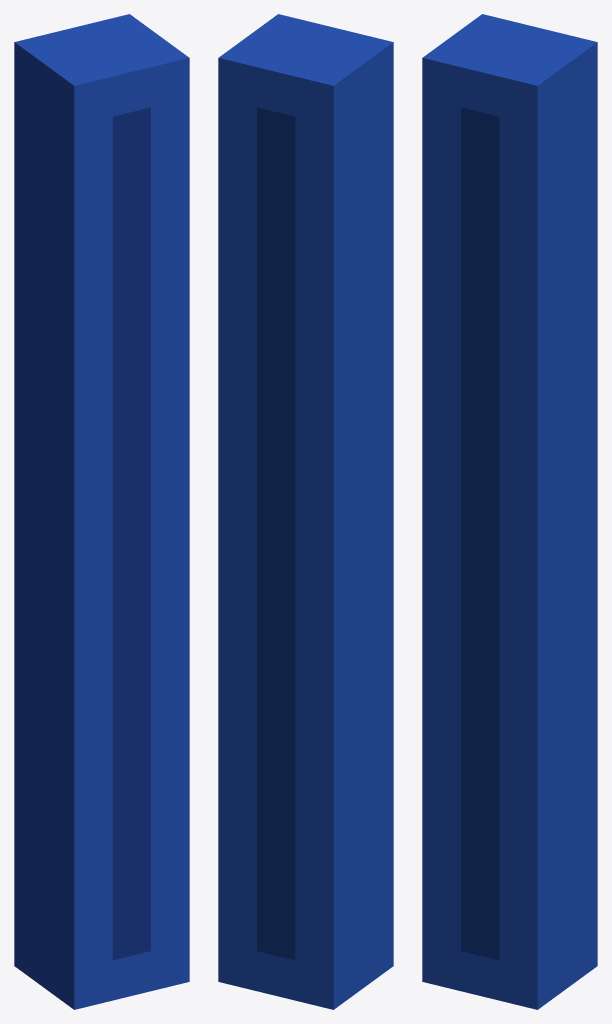
The model's file is floresan lamba tutacagi.fbx.
3 views of the same model, side by side, from view 1: azimuth 30°, elevation 25°; view 2: azimuth 150°, elevation 25°; view 3: azimuth 330°, elevation 25° (orthographic).
Visible parts, largest first — view 1: generated; view 2: generated; view 3: generated.
Part boxes in pixels (left/top/right/bottom): generated: left=14, top=14, right=189, bottom=1009; generated: left=218, top=14, right=393, bottom=1009; generated: left=422, top=14, right=597, bottom=1009.
Bounding box in the file's own units: 60 × 460 × 54.
